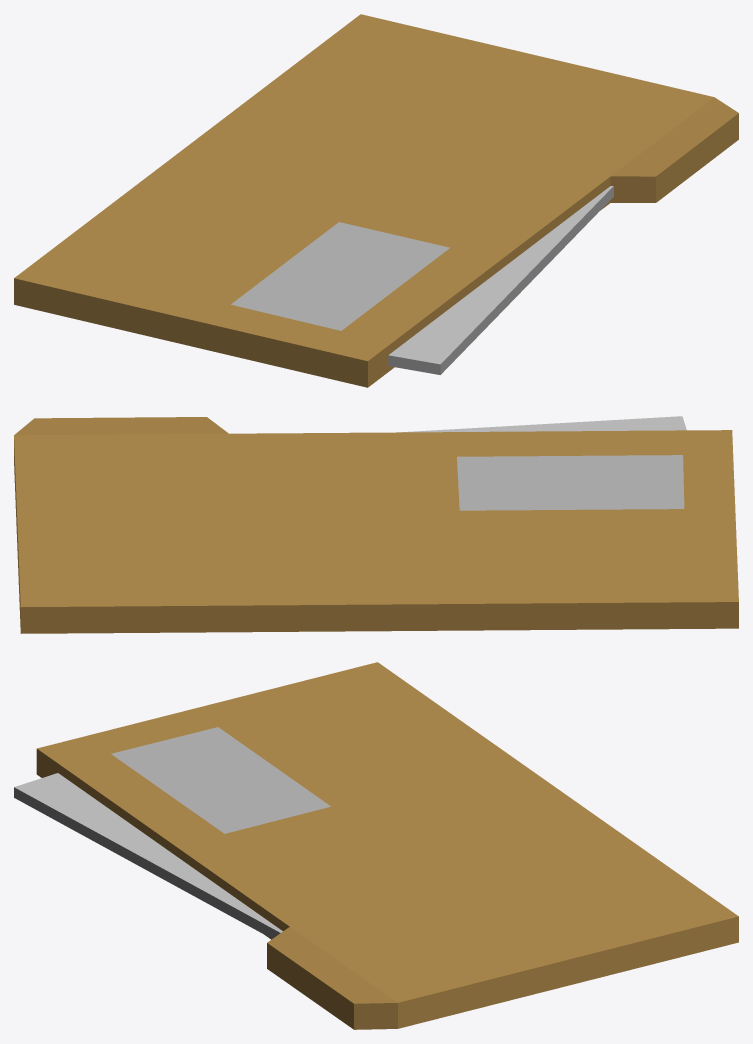
File: 送文件.fbx
The picture shows the model from 3 angles, top to bottom: view 1: azimuth 30°, elevation 25°; view 2: azimuth 150°, elevation 25°; view 3: azimuth 270°, elevation 25°; orthographic projection. The views are drawn at different scales.
Parts seen in each view (by area): view 1: Group092; view 2: Group092; view 3: Group092.
Part boxes in pixels (left/top/right/bottom): Group092: left=14, top=14, right=738, bottom=387; Group092: left=14, top=416, right=738, bottom=633; Group092: left=14, top=662, right=738, bottom=1029.
Bounding box in the file's own units: 67.37 × 2.39 × 60.4.
